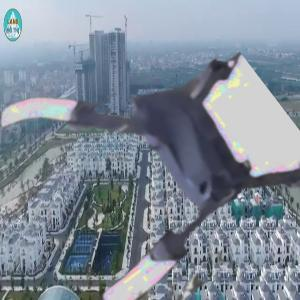drone: (7, 19, 285, 297)
